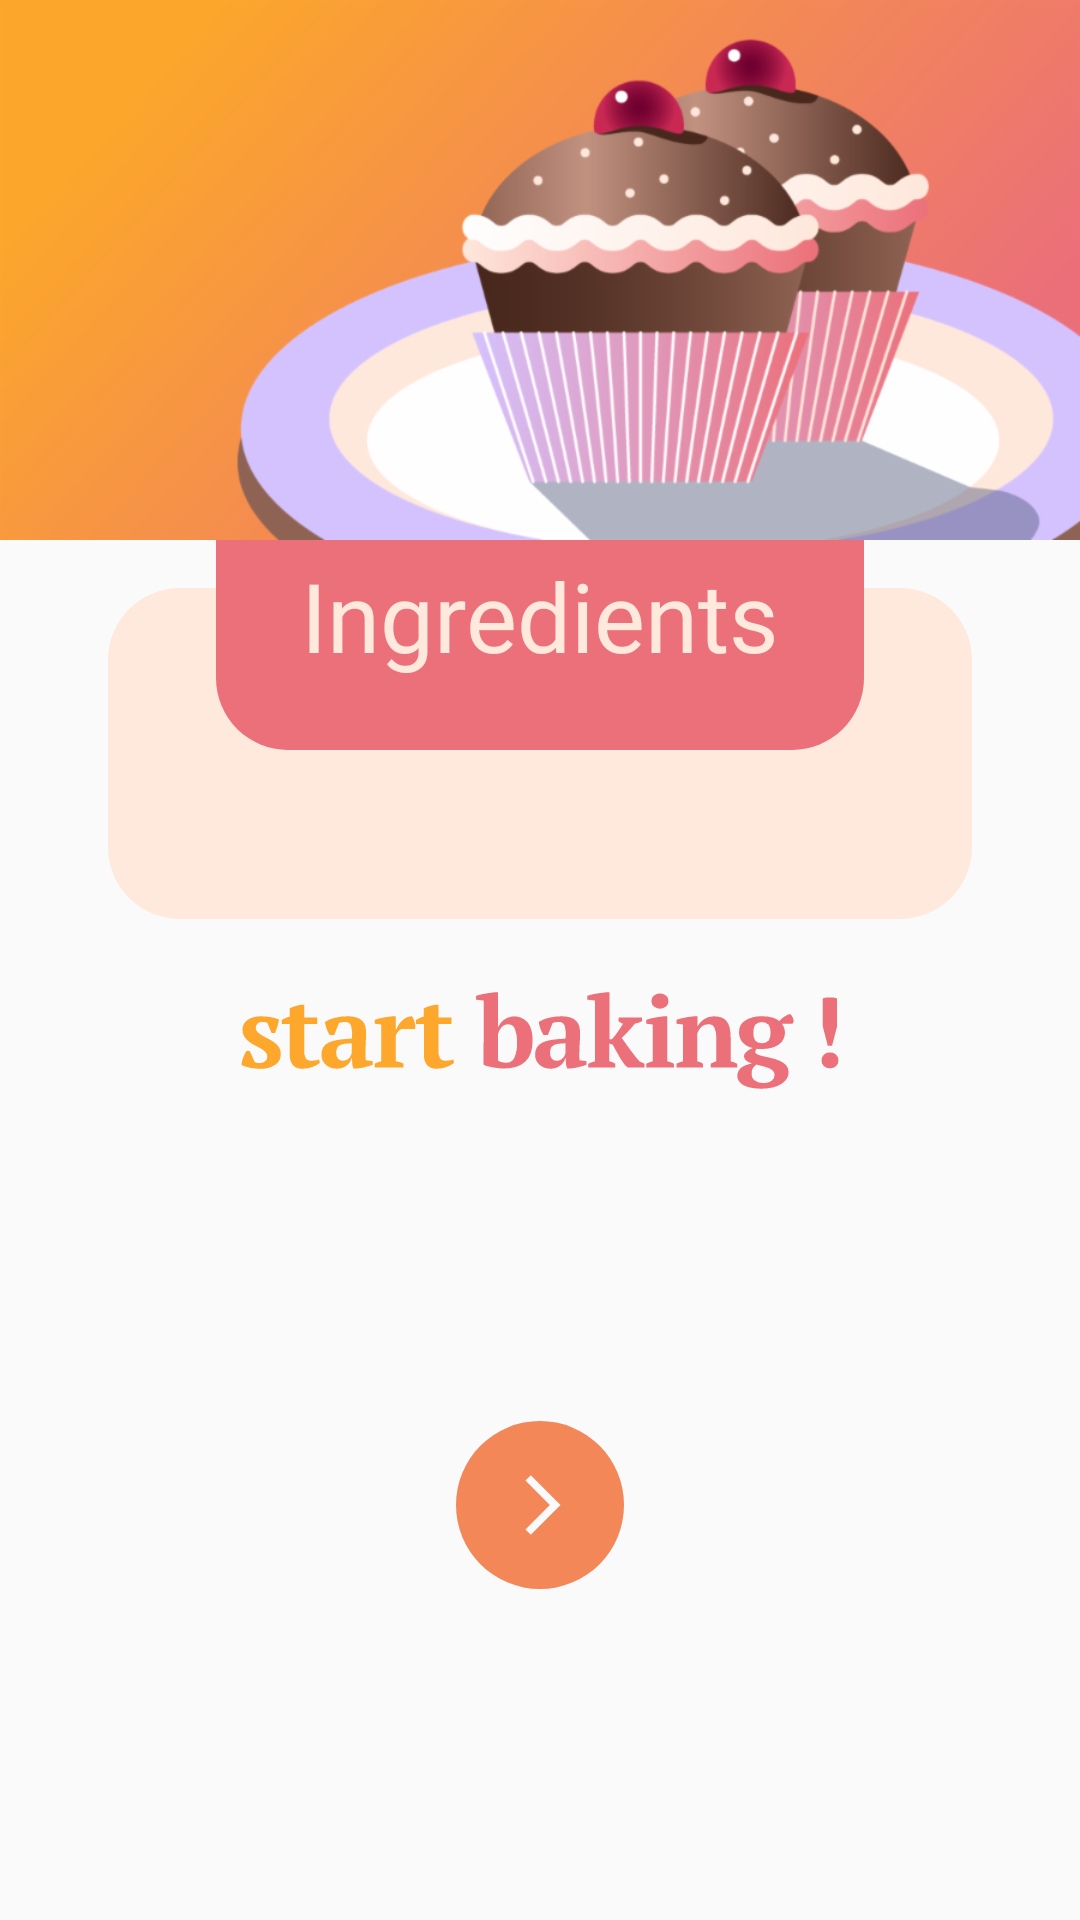

Icon bounding boxes for this 1080x1920 phone screenshot, format (x1, y1, x2, y2):
go to introduction: (456, 1421, 624, 1589)
